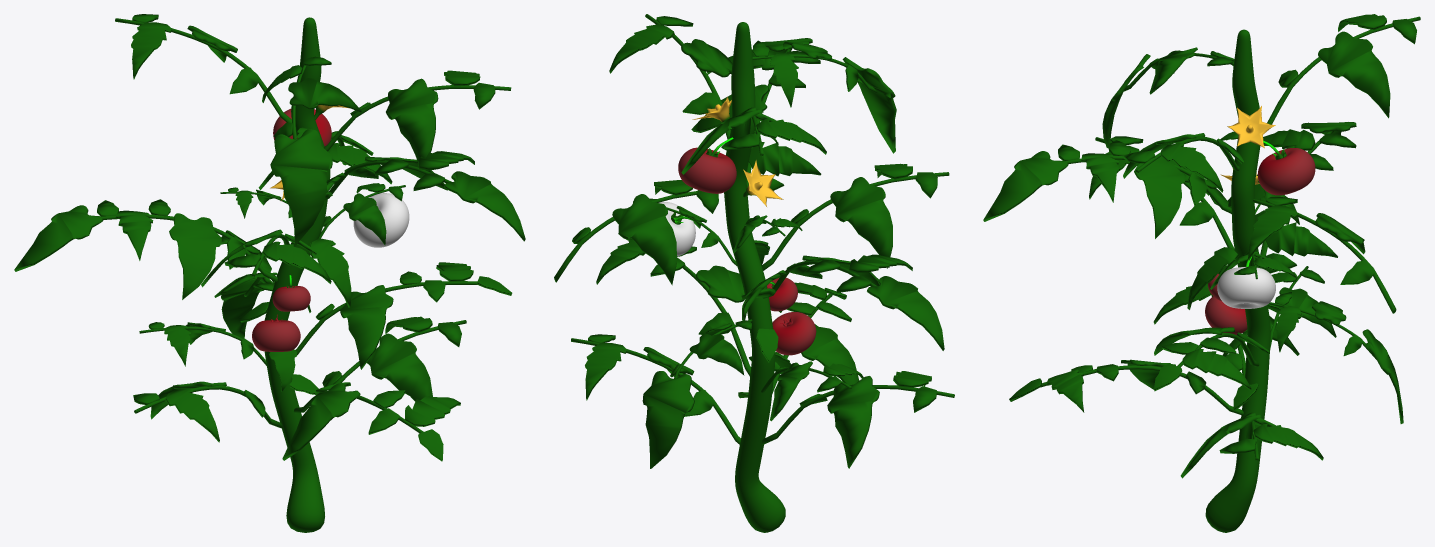
File: Paradajz_BiljkaTextura2.fbx
The picture shows the model from 3 angles, left to right: view 1: azimuth 30°, elevation 25°; view 2: azimuth 150°, elevation 25°; view 3: azimuth 270°, elevation 25°; orthographic projection.
Visible parts, largest first — view 1: Cube.014, Cube, Cube.025, Cube.017, Cube.016, Cube.021, Cube.002, Cube.019, Cube.024, Cube.026, Cube.020, Cube.018 (+9 smaller); view 2: Cube, Cube.014, Cube.018, Cube.020, Cube.010, Cube.026, Cube.025, Cube.021, Cube.002, Cube.016, Cube.019, Cube.017 (+10 smaller); view 3: Cube, Cube.021, Cube.024, Cube.014, Cube.016, Cube.010, Cube.017, Cube.018, Cube.002, Cube.019, Tomato.001, Cube.025 (+8 smaller).
Boxes of the visible parts, x1,y1,x2,y2 form: Cube.014: (14, 199, 277, 299); Cube: (264, 17, 330, 532); Cube.025: (262, 56, 361, 245); Cube.017: (282, 382, 460, 461); Cube.016: (295, 262, 512, 369); Cube.021: (312, 151, 525, 241); Cube.002: (324, 70, 511, 163); Cube.019: (322, 316, 466, 401); Cube.024: (115, 14, 291, 122); Cube.026: (133, 381, 282, 442); Cube.020: (201, 229, 331, 287); Cube.018: (214, 272, 311, 338); Cube: (724, 22, 785, 532); Cube.014: (741, 254, 944, 350); Cube.018: (642, 319, 752, 468); Cube.020: (761, 163, 949, 270); Cube.010: (554, 180, 727, 285); Cube.026: (762, 371, 954, 468); Cube.025: (752, 40, 896, 153); Cube.021: (691, 38, 821, 195); Cube.002: (609, 14, 732, 139); Cube.016: (596, 238, 782, 376); Cube.019: (571, 334, 740, 444); Cube.017: (749, 282, 859, 393); Cube: (1205, 29, 1270, 532); Cube.021: (983, 140, 1231, 238); Cube.024: (1267, 14, 1420, 124); Cube.014: (1227, 122, 1356, 273); Cube.016: (1154, 327, 1269, 391); Cube.010: (1248, 197, 1396, 313); Cube.017: (1009, 359, 1243, 415); Cube.018: (1268, 292, 1403, 423); Cube.002: (1123, 133, 1243, 192); Cube.019: (1180, 412, 1323, 478); Tomato.001: (1257, 140, 1315, 195); Cube.025: (1102, 47, 1234, 148).
Bounding box in the file's own units: 943 × 1109 × 869.
